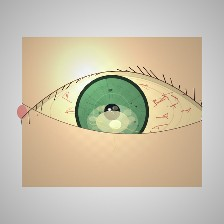corneal_ulcer: (86, 101, 139, 143)
